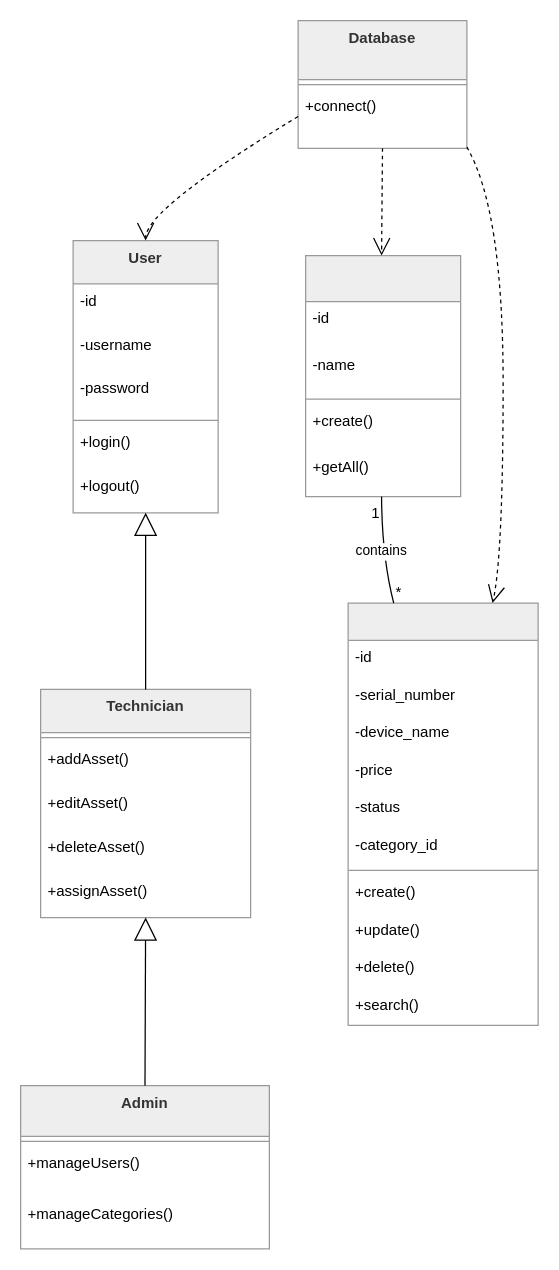
Image size: 559x1270. Some labels were removed from this diagram. The box of each missing label's shape, as (x1, y1, x2, y2) in pixels:
Asset: (347, 602, 538, 1025)
Category: (304, 254, 461, 497)
